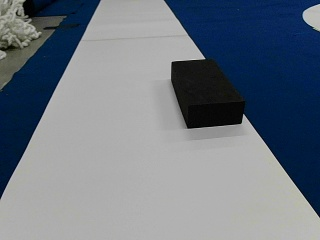block: (171, 59, 243, 127)
